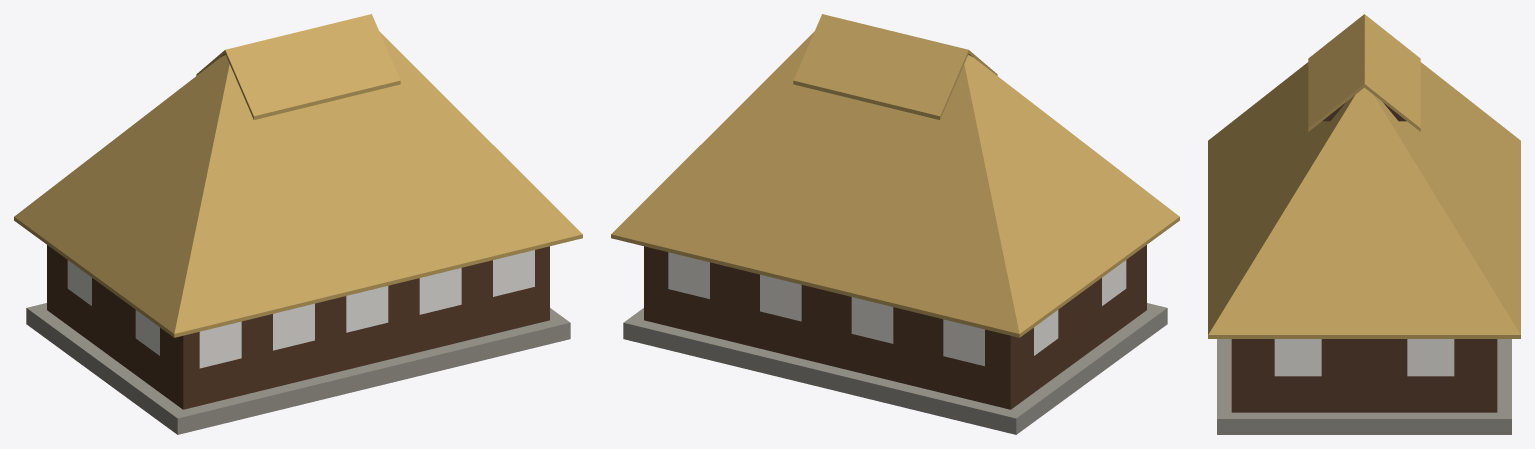
The model's file is minka.glb.
The picture shows the model from 3 angles, left to right: view 1: azimuth 30°, elevation 25°; view 2: azimuth 150°, elevation 25°; view 3: azimuth 270°, elevation 25°; orthographic projection. The views are drawn at different scales.
Visible parts, largest first — view 1: minka; view 2: minka; view 3: minka.
Part boxes in pixels (x1=…): minka: x1=14, y1=14, x2=582, y2=434; minka: x1=611, y1=14, x2=1179, y2=434; minka: x1=1208, y1=14, x2=1520, y2=434.
Bounding box in the file's own units: 15.6 × 10.94 × 10.6.
1 material, 1 textured.
